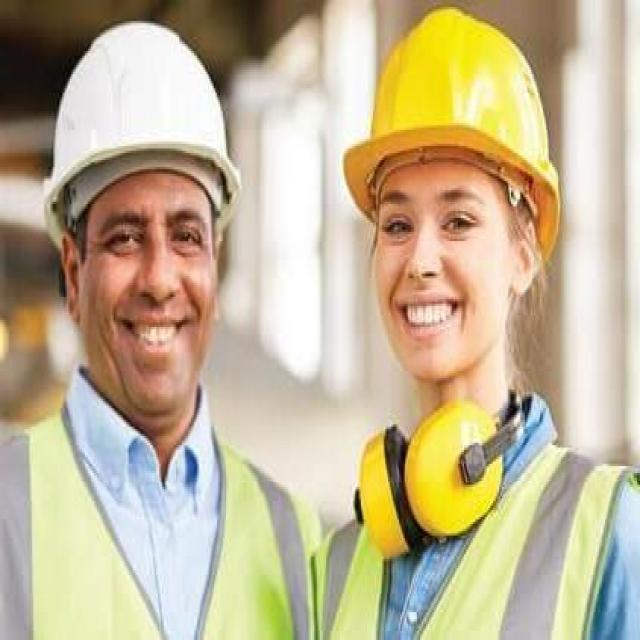Reflective-Jacket: (314, 406, 638, 640), (3, 413, 325, 640)
Safety-Helmet: (340, 5, 564, 227), (38, 14, 244, 220)
